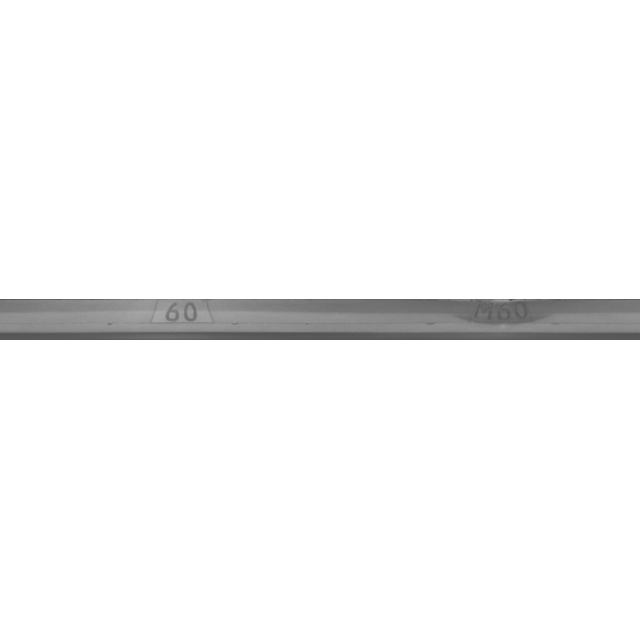mohao: (402, 270, 602, 370)
xuehao: (81, 270, 281, 370)
